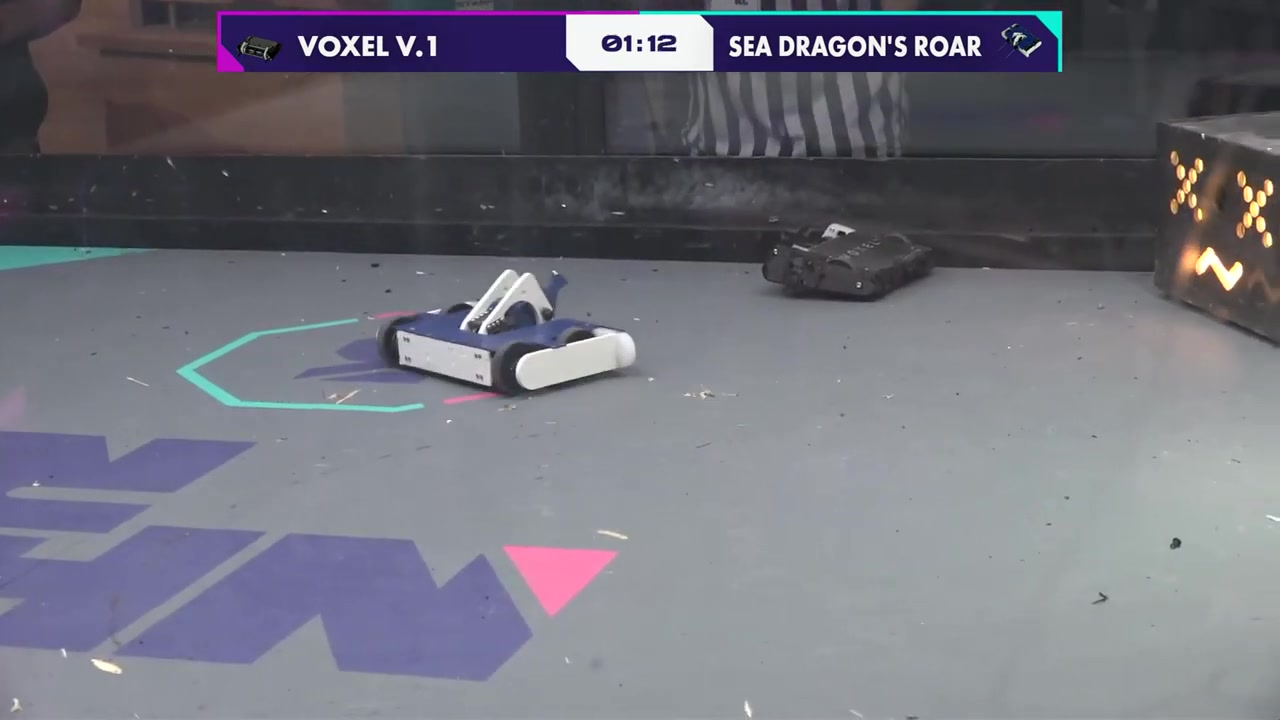combatbot: (380, 268, 637, 398), (764, 224, 935, 305)
housebot: (1152, 104, 1280, 359)
